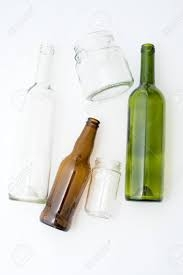glass: (7, 38, 55, 202), (38, 113, 101, 234), (124, 39, 167, 204), (70, 26, 140, 105), (85, 154, 123, 221)
